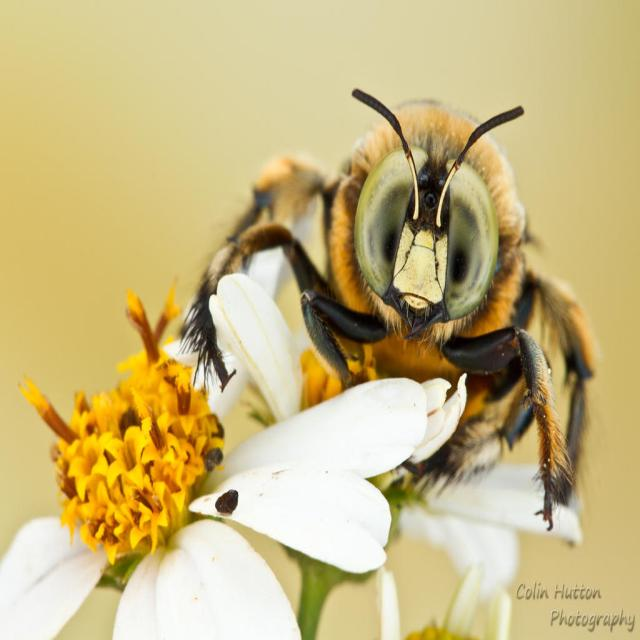Xylocopa: (156, 58, 627, 537)
